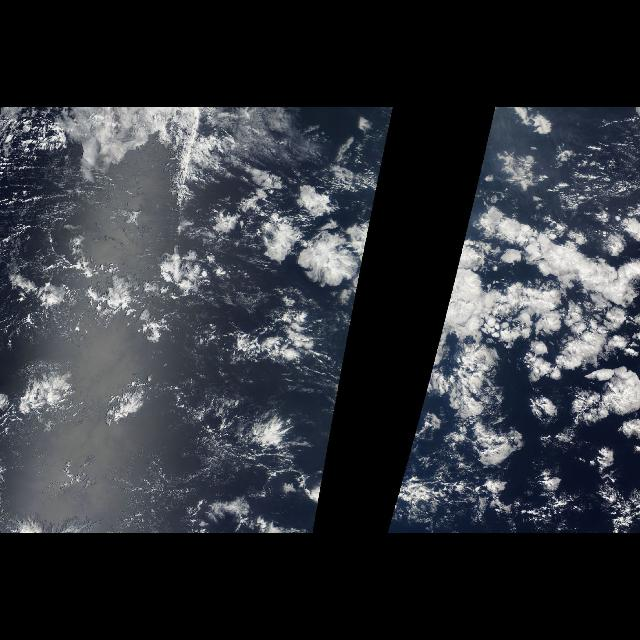Flower: (405, 138, 639, 478), (244, 139, 388, 469)
Sugar: (140, 244, 318, 494)
